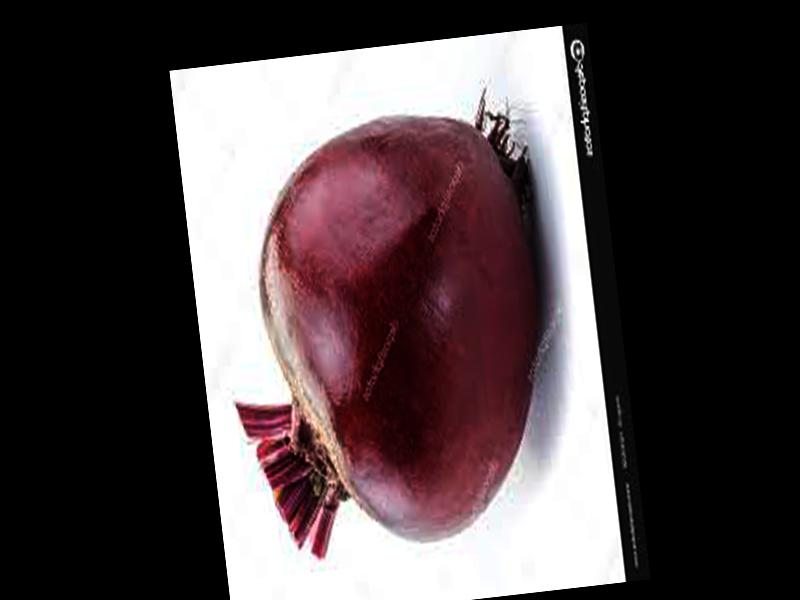Beet: (209, 103, 566, 562)
